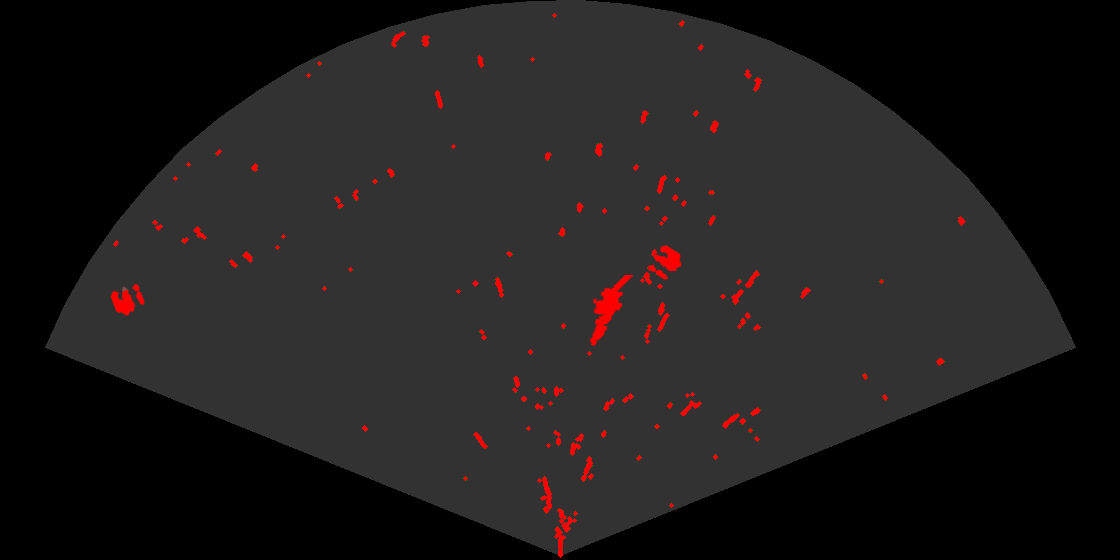ball: (647, 244, 683, 281), (109, 282, 146, 317)
frogman: (588, 275, 636, 348)
